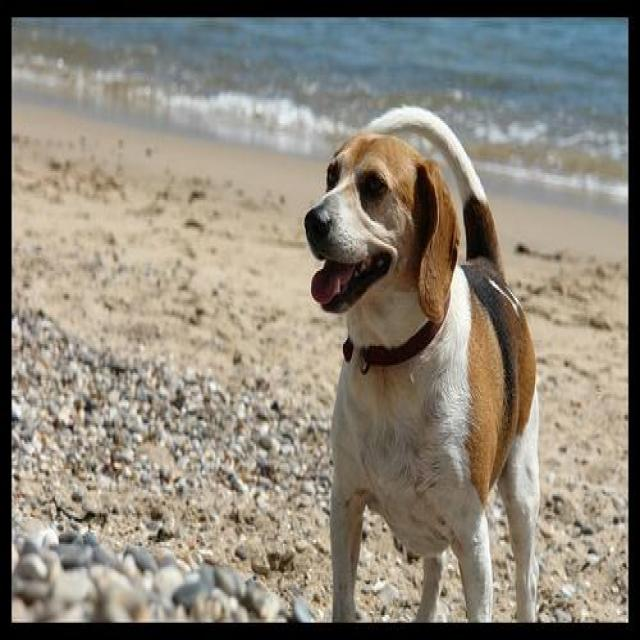beagle: (305, 100, 539, 621)
